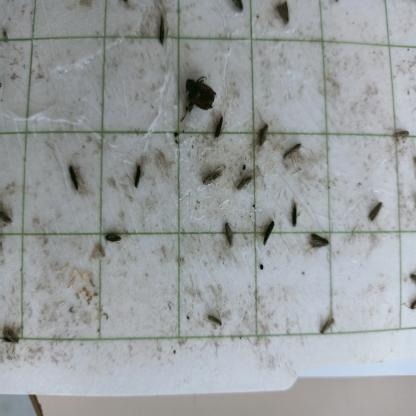prays_oleae: (276, 128, 311, 168), (197, 154, 228, 198), (305, 230, 337, 268), (62, 158, 89, 200), (198, 309, 225, 343), (208, 102, 230, 141), (256, 100, 270, 160), (392, 112, 412, 154), (151, 8, 171, 50), (2, 314, 22, 354), (219, 213, 238, 255), (234, 166, 256, 202), (272, 2, 298, 30), (286, 193, 304, 233), (258, 213, 276, 251), (104, 223, 126, 252), (320, 306, 338, 341), (372, 190, 384, 234), (1, 202, 19, 230), (131, 157, 146, 190), (230, 3, 250, 18)
